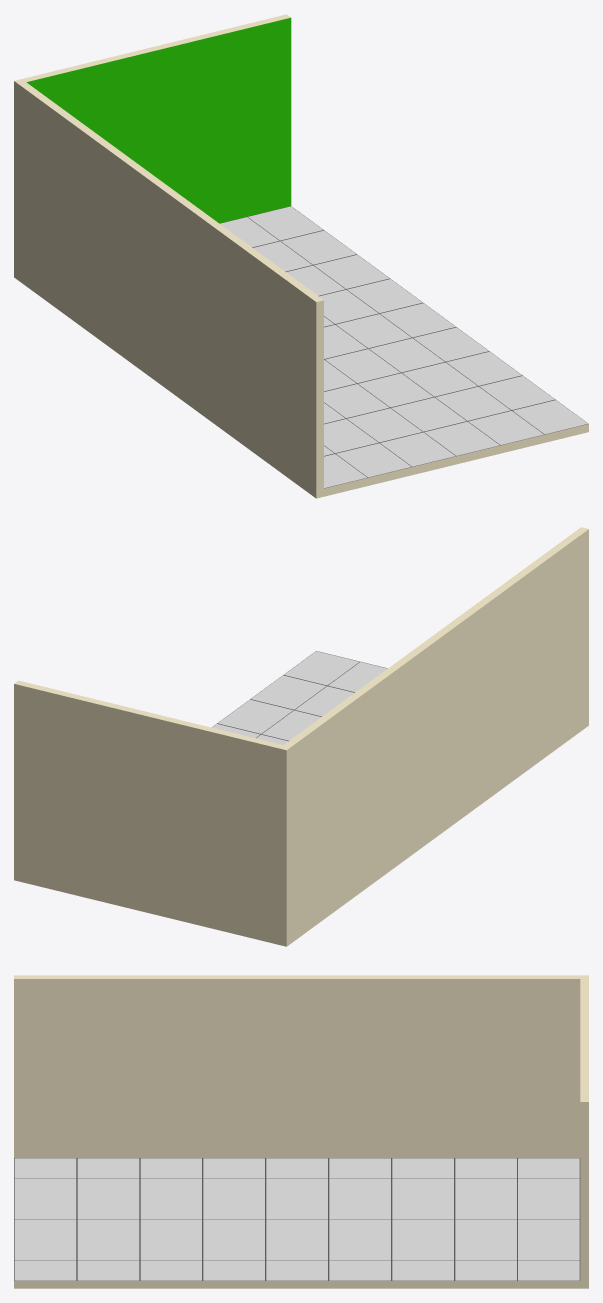
The model's file is Salle_C.fbx.
3 renders of one model, top to bottom at view 1: azimuth 30°, elevation 25°; view 2: azimuth 150°, elevation 25°; view 3: azimuth 270°, elevation 25°, orthographic. The views are drawn at different scales.
Visible parts, largest first — view 1: Salle_C; view 2: Salle_C; view 3: Salle_C.
Boxes of the visible parts, x1=… form: Salle_C: x1=14, y1=14, x2=588, y2=498; Salle_C: x1=14, y1=527, x2=588, y2=946; Salle_C: x1=14, y1=975, x2=588, y2=1288.
Bounding box in the file's own units: 350 × 241 × 672.
